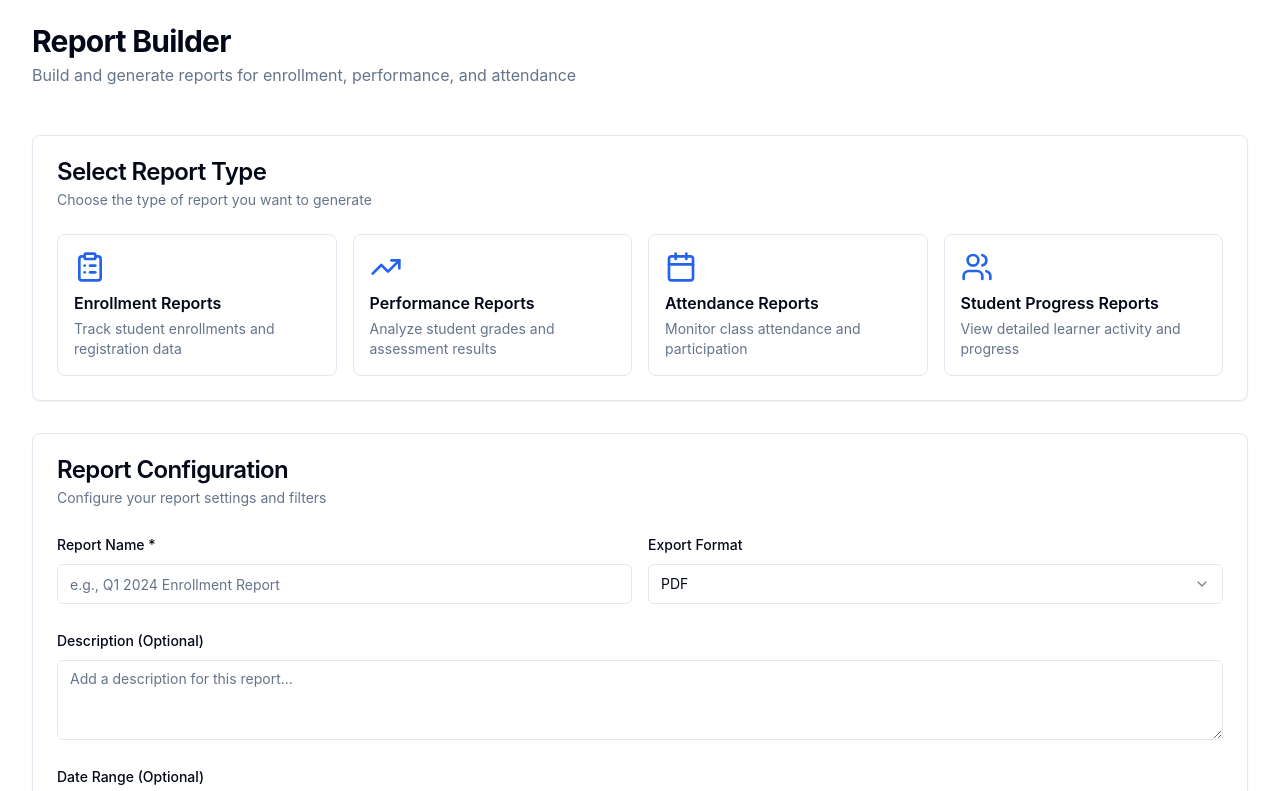
Test case: ReportBuilderPage › Reset Filters › should clear all filters when reset button is clicked
The image size is (1280, 791).
Type "Test Report" into the field labelled "Report Name *" at (344, 584), box top-left (57, 564), bottom-right (632, 604)
(page scrolled)
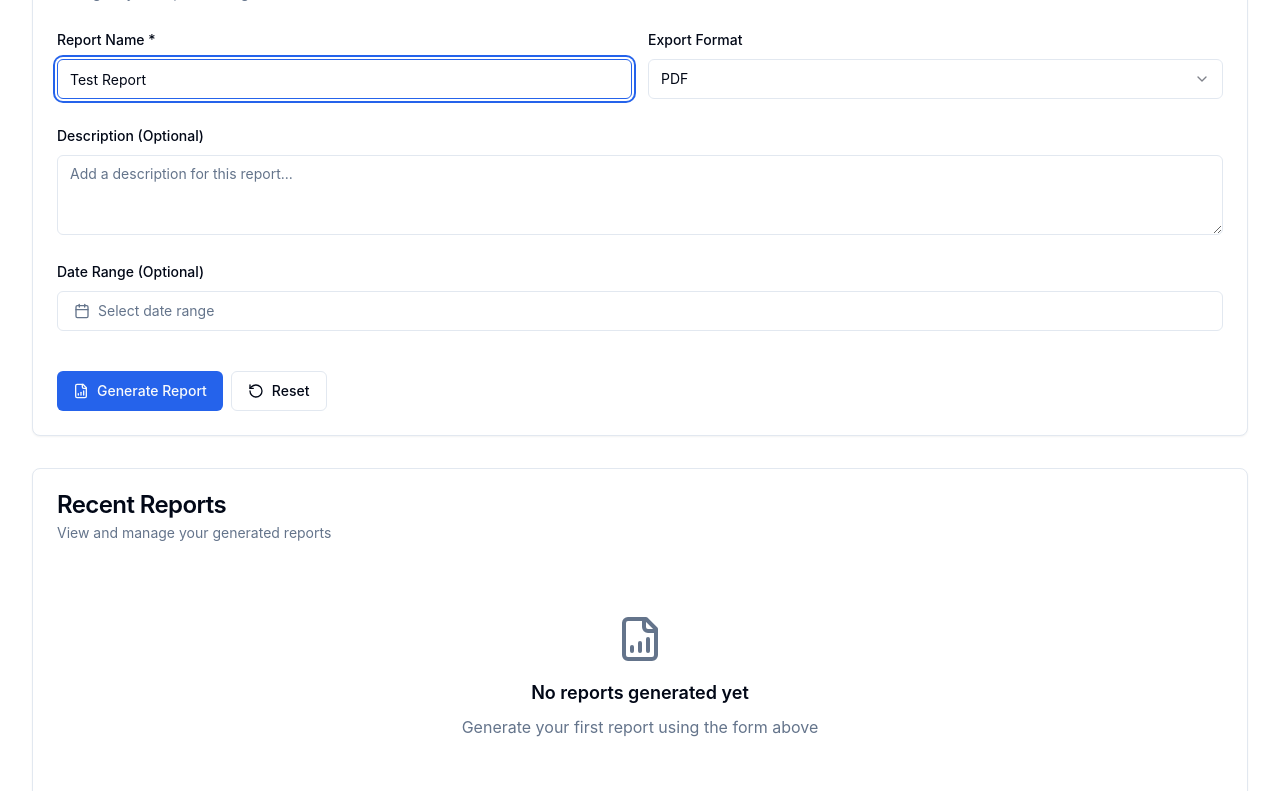
Click the button "Reset" at (279, 391), box top-left (231, 371), bottom-right (326, 411)
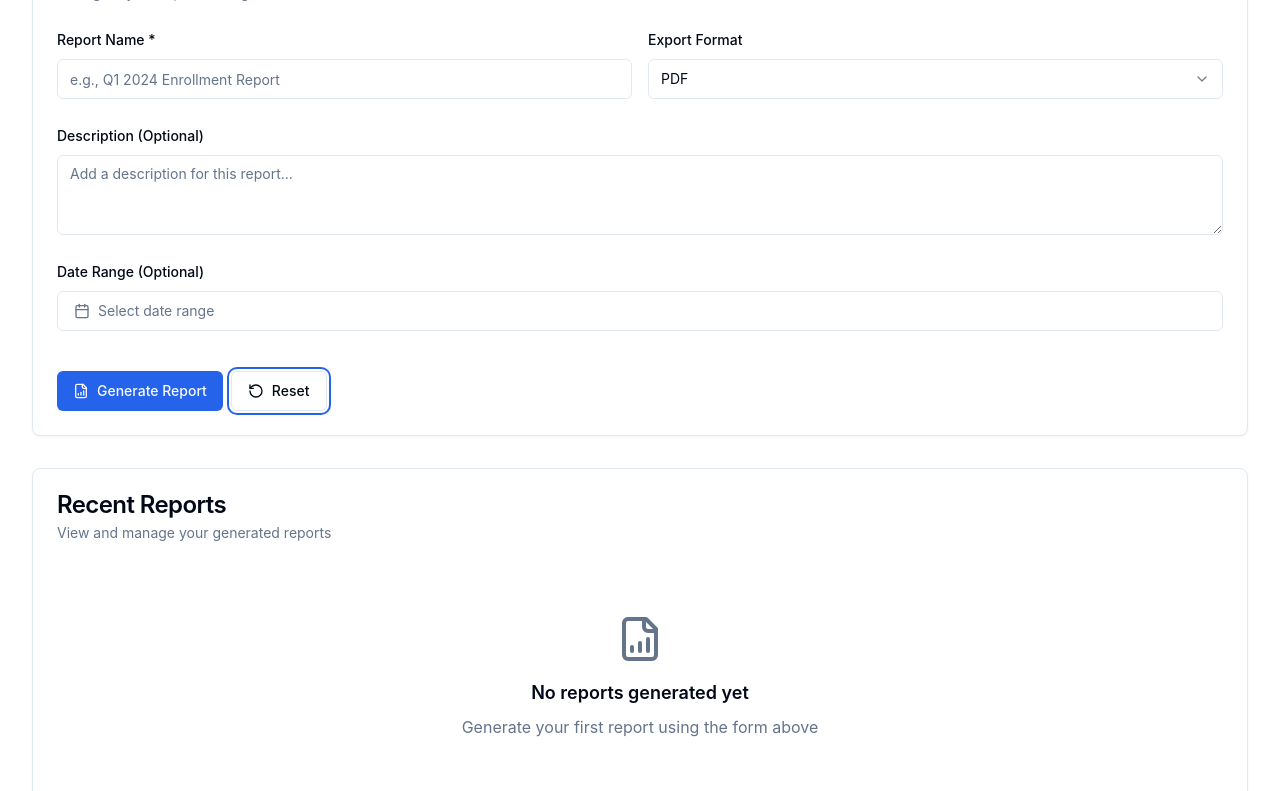
Result: the field labelled "Report Name *" is empty at top-left (57, 59), bottom-right (632, 99)
